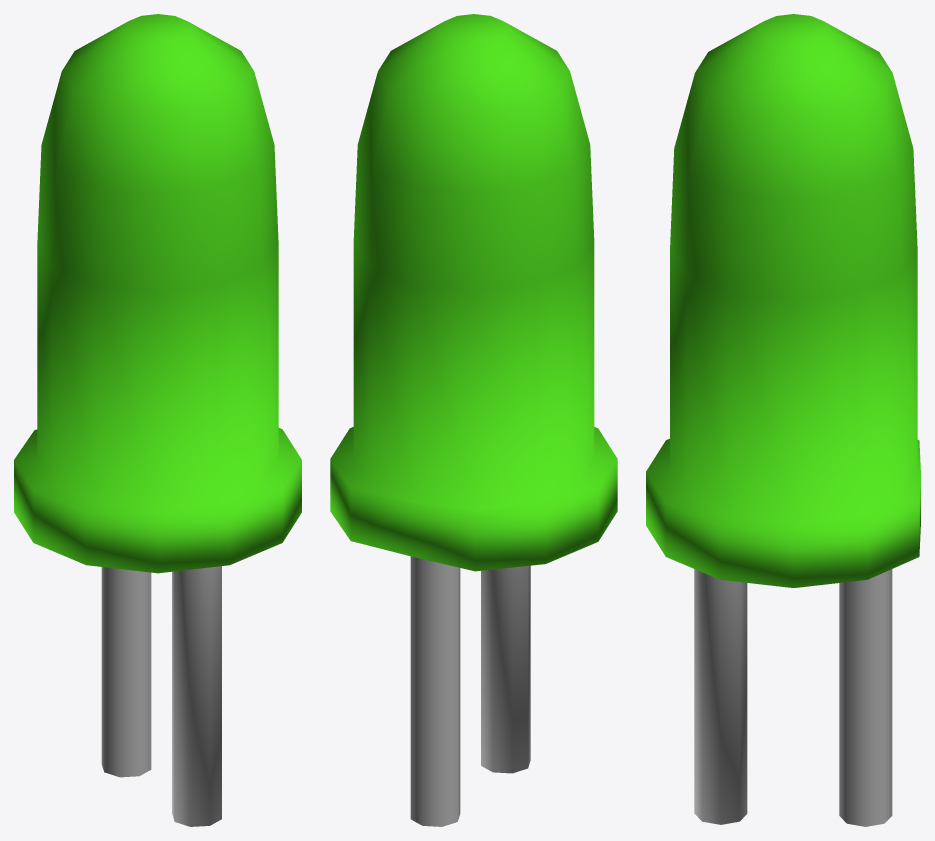
Rendered from LEDGreen.fbx.
3 views of the same model, side by side, from view 1: azimuth 30°, elevation 25°; view 2: azimuth 150°, elevation 25°; view 3: azimuth 270°, elevation 25° (orthographic). The views are drawn at different scales.
Visible parts, largest first — view 1: LEDGreen; view 2: LEDGreen; view 3: LEDGreen.
Part boxes in pixels (x1,y1,x2,y2): LEDGreen: [14, 14, 301, 826]; LEDGreen: [330, 14, 617, 826]; LEDGreen: [646, 14, 920, 826].
Size of the model in its own units: 55.66 by 163 by 51.77.
